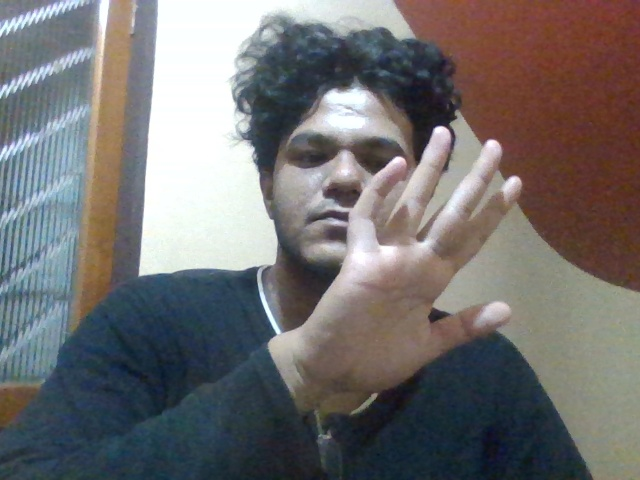hello: (332, 144, 515, 401)
